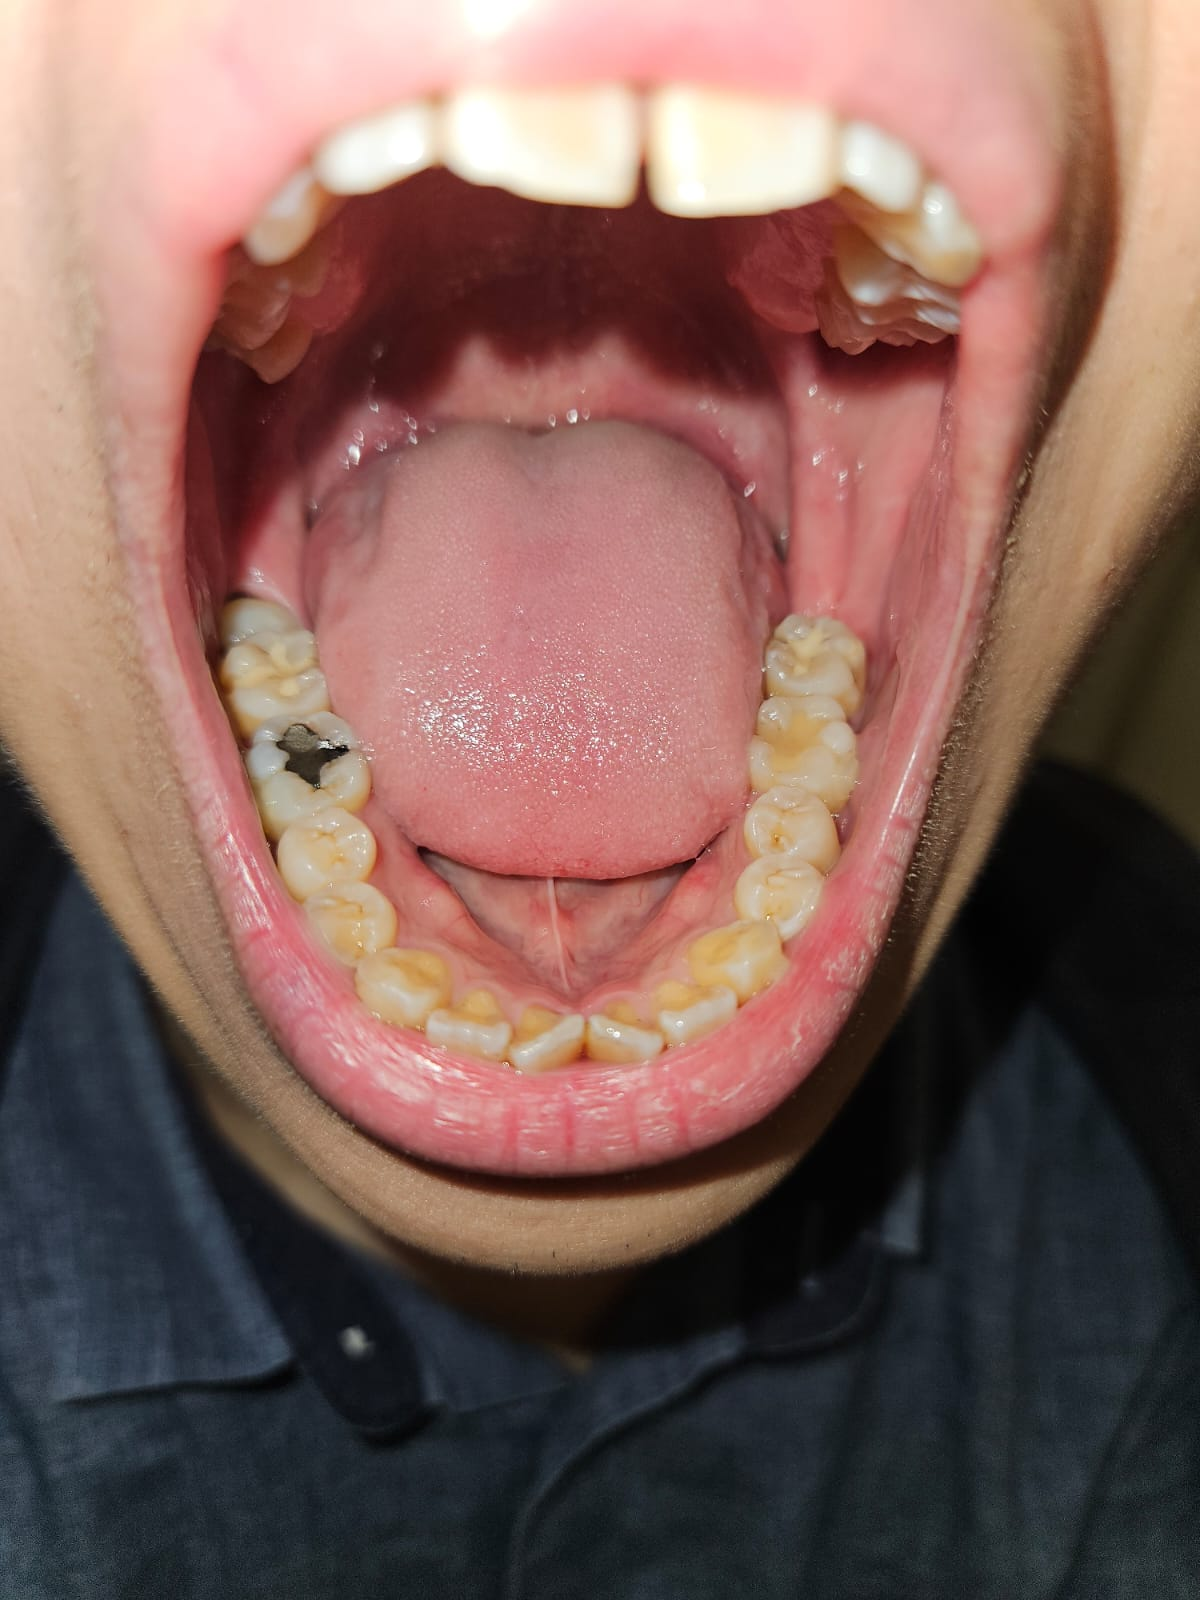teeth: (442, 84, 639, 202), (653, 84, 831, 209), (248, 711, 373, 830), (842, 188, 974, 282), (749, 697, 860, 809), (761, 605, 870, 711), (315, 106, 430, 193), (841, 244, 953, 326), (213, 632, 324, 714), (279, 809, 379, 892), (745, 789, 845, 872), (352, 947, 454, 1026), (304, 884, 393, 959), (736, 854, 818, 932), (847, 129, 921, 209), (692, 923, 785, 988), (248, 170, 314, 260), (426, 991, 504, 1061), (589, 1000, 664, 1062), (655, 979, 731, 1038), (508, 1007, 579, 1070), (222, 586, 296, 631)
